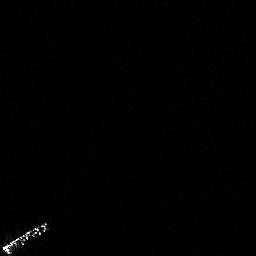ship: (1, 218, 54, 256)
